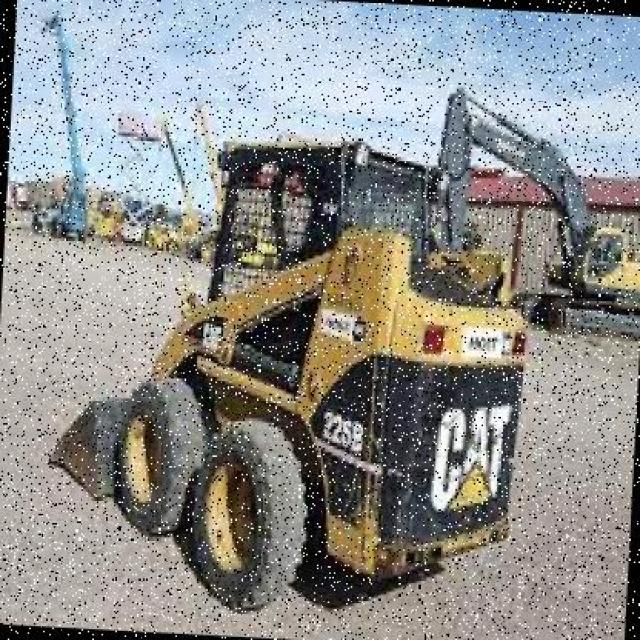buldozerpayloadergrader: (87, 116, 541, 632)
